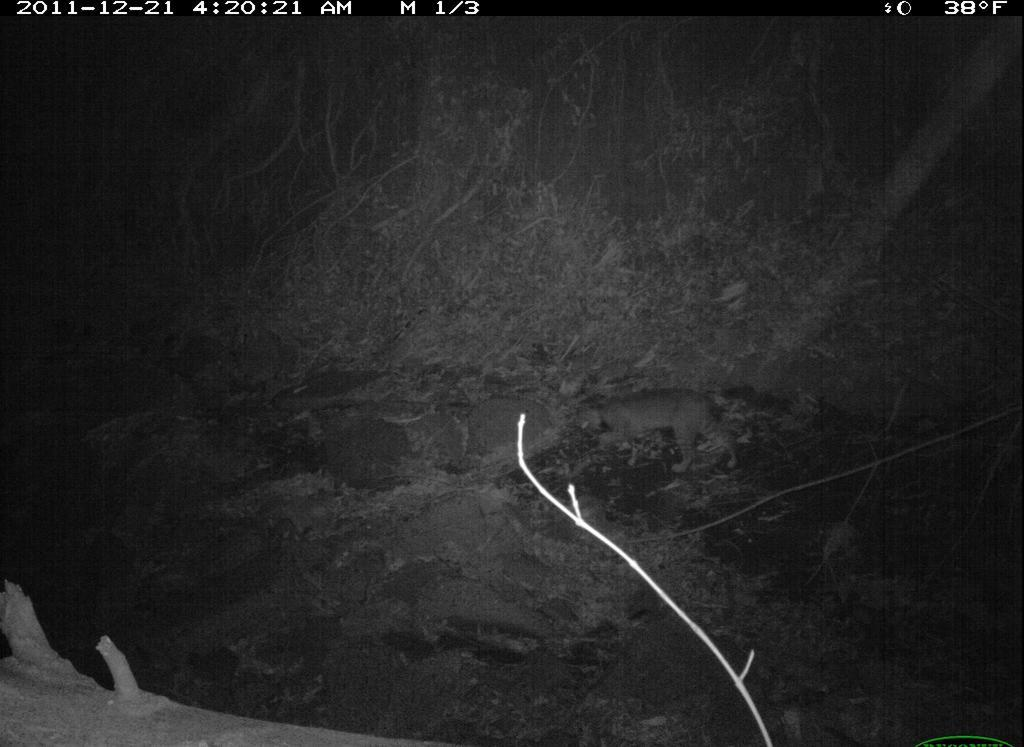bobcat: (571, 383, 751, 481)
